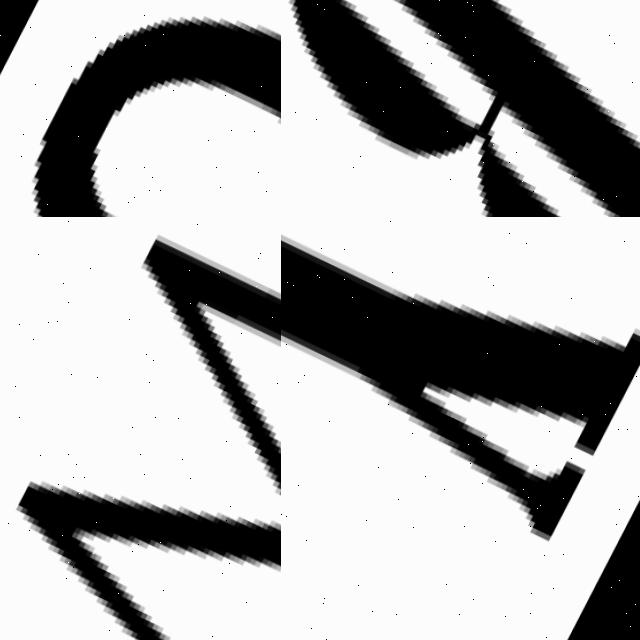6: (0, 0, 281, 217)
B: (297, 0, 640, 217)
W: (0, 217, 281, 640)
Y: (281, 217, 640, 549)
